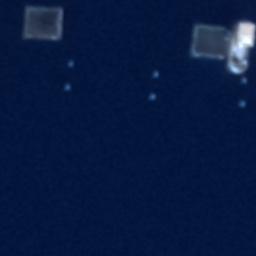square_cover: (17, 2, 69, 44), (188, 20, 236, 63)
